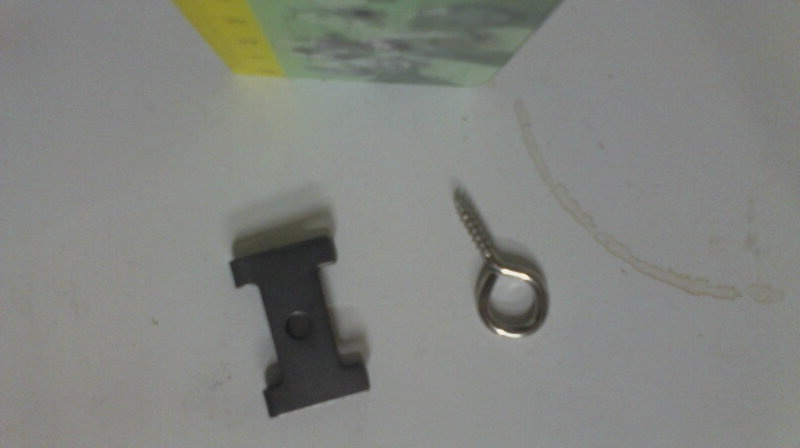O001: (446, 183, 554, 344)
O002: (225, 232, 373, 420)
